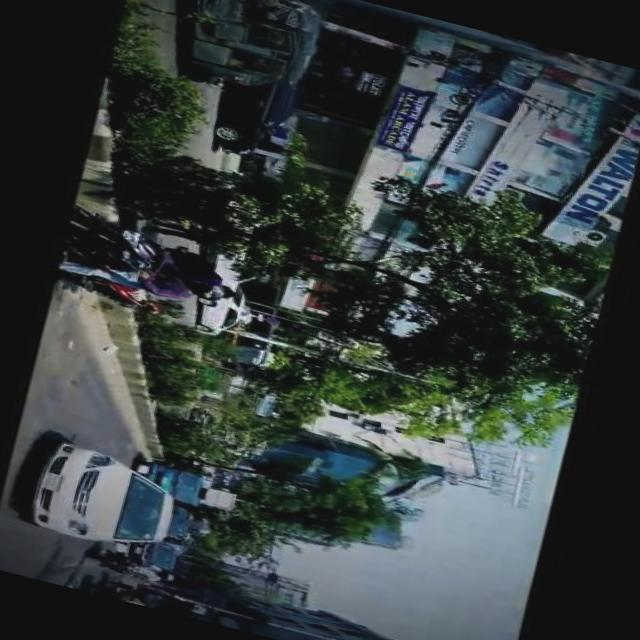bus: (220, 274, 288, 368)
car: (26, 436, 186, 560), (213, 68, 303, 166), (199, 279, 255, 341), (136, 536, 182, 572)
motorcycle: (177, 0, 330, 108), (62, 206, 175, 306), (87, 544, 149, 578)
truck: (142, 460, 210, 505)
